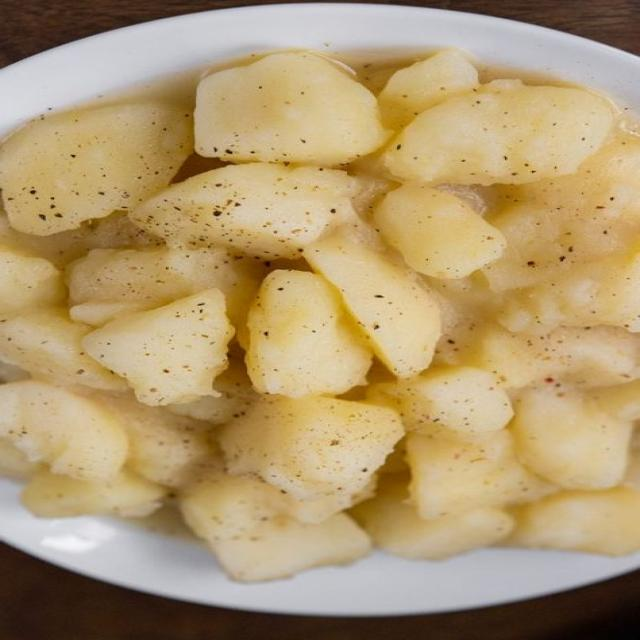kentang rebus: (302, 203, 447, 377), (192, 47, 394, 166), (128, 163, 354, 262), (227, 395, 405, 498), (242, 267, 374, 396), (89, 291, 231, 406)
